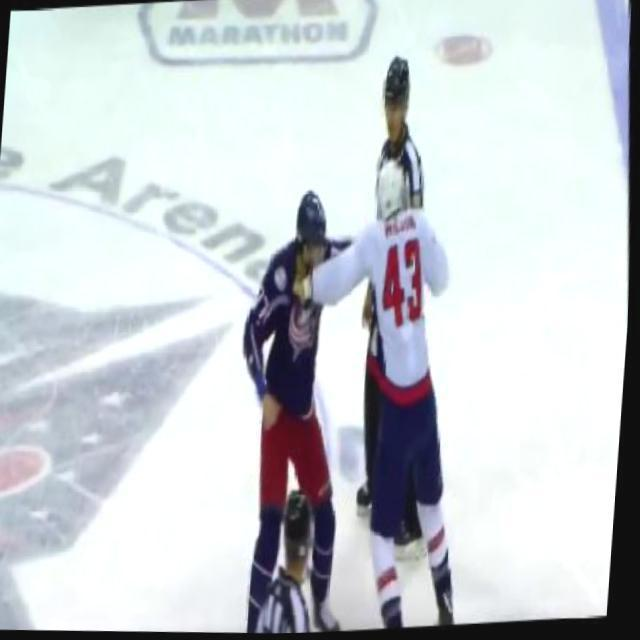fight: (212, 151, 486, 636)
